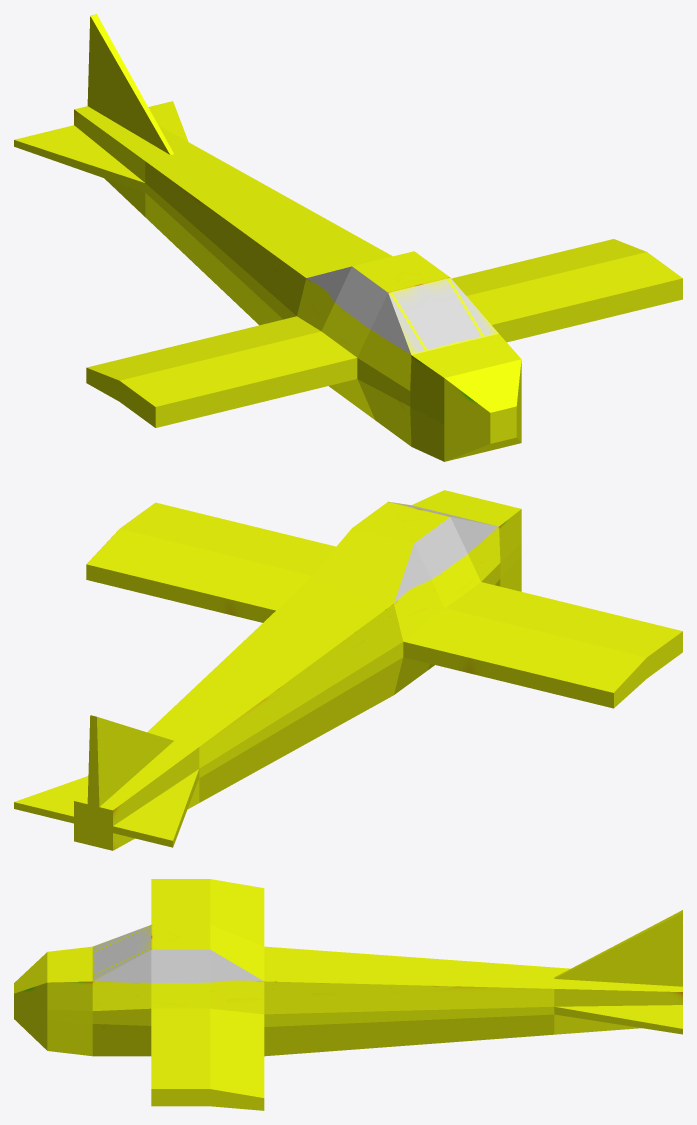
The model's file is lowPolyAirplaneP.obj.
3 renders of one model, top to bottom at view 1: azimuth 30°, elevation 25°; view 2: azimuth 150°, elevation 25°; view 3: azimuth 270°, elevation 25°, orthographic. The views are drawn at different scales.
Parts seen in each view (by area): view 1: Cube; view 2: Cube; view 3: Cube.
Boxes of the visible parts, left/top/right/bottom form: Cube: left=14, top=14, right=682, bottom=461; Cube: left=14, top=490, right=682, bottom=850; Cube: left=14, top=879, right=682, bottom=1110.
Bounding box in the file's own units: 12.04 × 3.41 × 16.21.
Materials: 1 (1 with a texture image).
